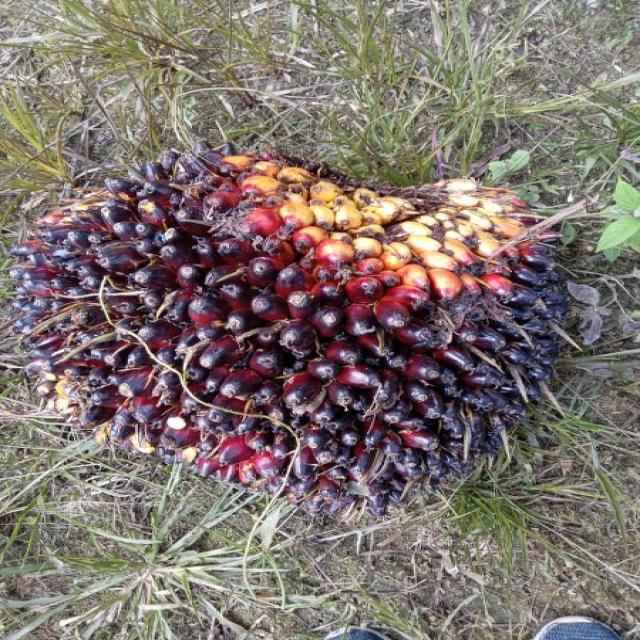fraksi 1: (0, 156, 591, 509)
